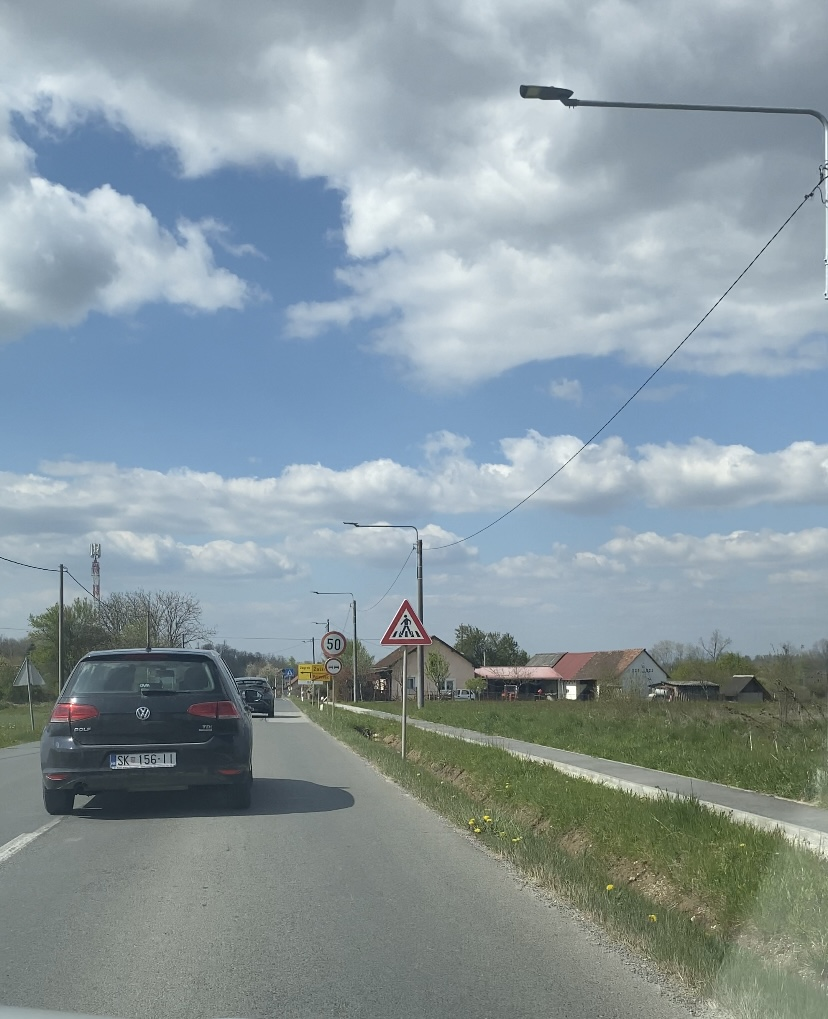Ograničenje brzine 50: (321, 631, 347, 657)
Približavanje pješačkom prijelazu: (380, 599, 432, 645)
Zabrana pretjecanja: (324, 657, 343, 675)
